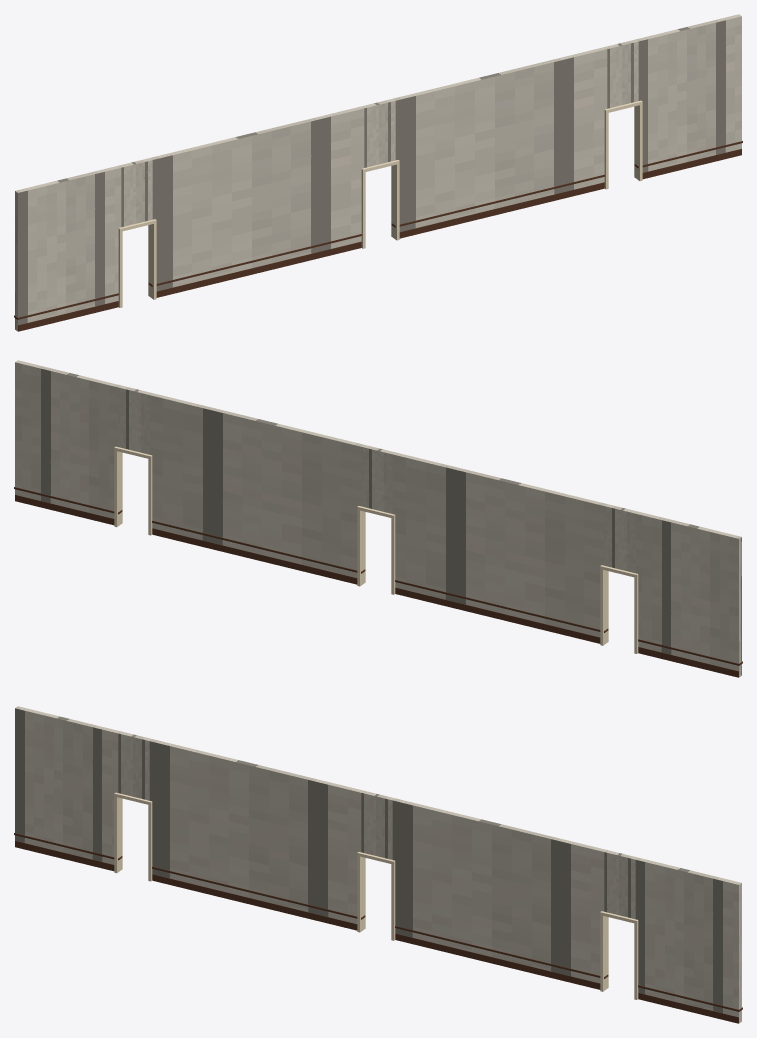
Rendered from middle_mid.glb.
3 renders of one model, top to bottom at view 1: azimuth 30°, elevation 25°; view 2: azimuth 150°, elevation 25°; view 3: azimuth 330°, elevation 25°, orthographic.
Visible parts, largest first — view 1: Box5, Box3, Box1, Box7, Box9, Box11, Box10, Box4, Box6, Box25, Box2, Box8 (+6 smaller); view 2: Box3, Box5, Box1, Box7, Box9, Box11, Box10, Box4, Box6, Box25, Box2, Box8 (+5 smaller); view 3: Box5, Box3, Box7, Box1, Box9, Box11, Box10, Box4, Box6, Box23, Box8, Box2 (+5 smaller).
Boxes of the visible parts, x1,y1,x2,y2 form: Box5: [393, 47, 607, 231]; Box3: [150, 106, 364, 291]; Box1: [15, 165, 121, 330]; Box7: [636, 14, 741, 172]; Box9: [119, 158, 152, 227]; Box11: [604, 39, 638, 108]; Box10: [361, 98, 395, 167]; Box4: [156, 241, 361, 297]; Box6: [399, 182, 604, 238]; Box25: [400, 177, 604, 231]; Box2: [18, 301, 118, 331]; Box8: [642, 149, 741, 179]; Box3: [392, 452, 606, 637]; Box5: [149, 393, 363, 577]; Box1: [635, 511, 741, 677]; Box7: [15, 360, 120, 518]; Box9: [604, 504, 637, 573]; Box11: [118, 385, 152, 454]; Box10: [361, 444, 395, 513]; Box4: [395, 587, 600, 643]; Box6: [152, 528, 357, 584]; Box25: [152, 523, 357, 577]; Box2: [638, 647, 738, 677]; Box8: [15, 495, 114, 525]; Box5: [392, 798, 606, 983]; Box3: [149, 739, 363, 923]; Box7: [635, 857, 741, 1023]; Box1: [15, 706, 120, 864]; Box9: [118, 731, 152, 800]; Box11: [604, 850, 637, 919]; Box10: [361, 790, 395, 859]; Box4: [152, 874, 357, 930]; Box6: [395, 933, 600, 989]; Box23: [152, 869, 357, 923]; Box8: [638, 993, 738, 1023]; Box2: [15, 841, 114, 871].
Size of the model in its own units: 21.89 by 4 by 0.3.
3 materials, 1 textured.
